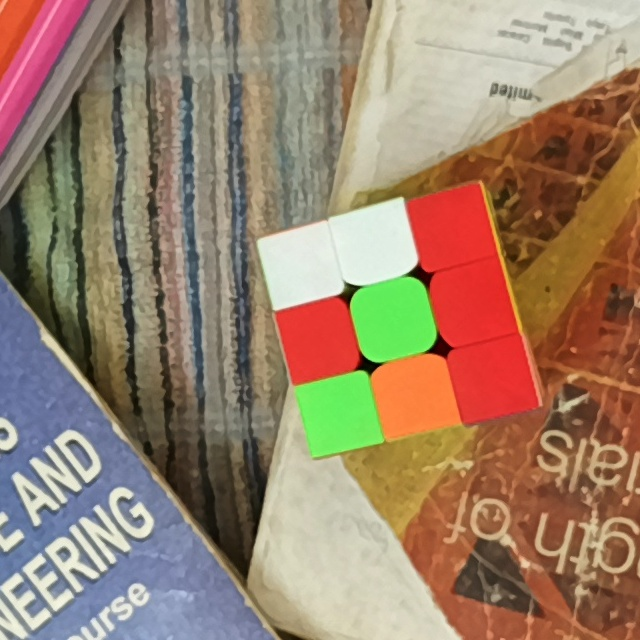tile: (270, 236, 329, 296), (464, 349, 524, 408), (364, 292, 425, 348), (445, 273, 502, 332), (386, 366, 445, 423), (346, 215, 404, 272), (311, 385, 369, 442), (424, 199, 481, 256), (291, 311, 348, 368)
